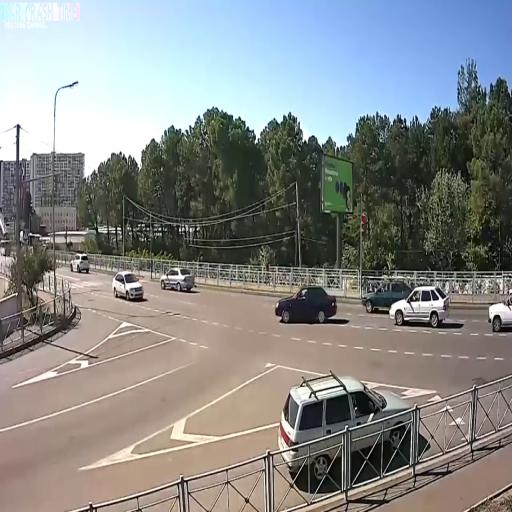小汽车: (279, 370, 412, 483), (389, 286, 452, 328), (273, 284, 338, 324), (362, 277, 406, 313), (158, 262, 198, 293), (485, 290, 512, 334), (112, 270, 145, 305), (68, 250, 90, 276)
